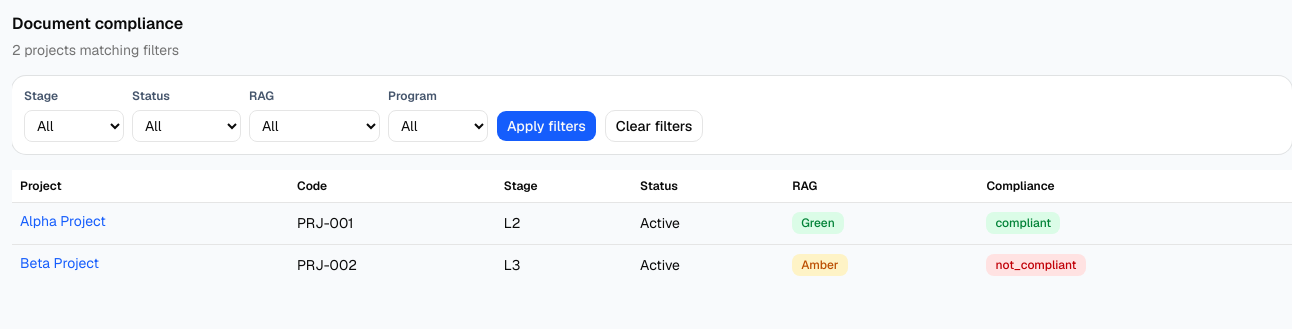
Test: DocumentCompliancePage › shows filter error toast on 400 apply
Expected: the button "Apply filters" is shown, x1=496 y1=110 x2=597 y2=142
Select "L2" in the dropdown named "Stage" at {"x": 74, "y": 126}, box x1=24 y1=110 x2=124 y2=142
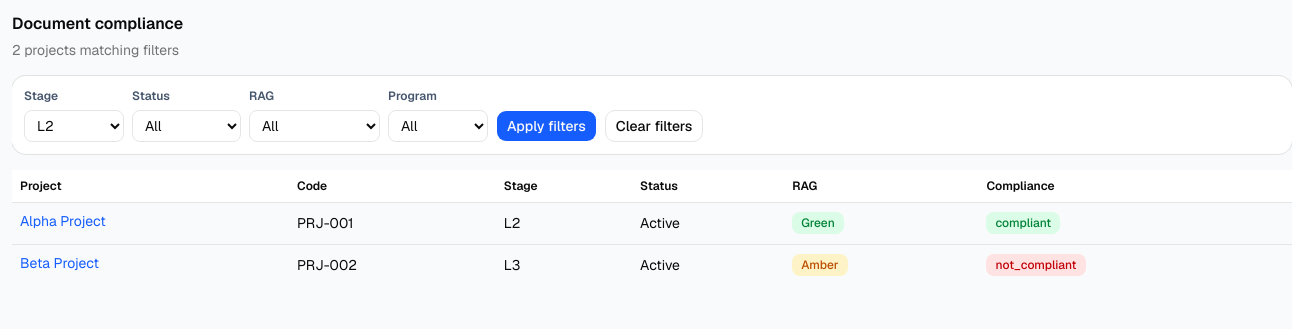
Click the button "Apply filters" at {"x": 546, "y": 126}, box x1=496 y1=110 x2=597 y2=142
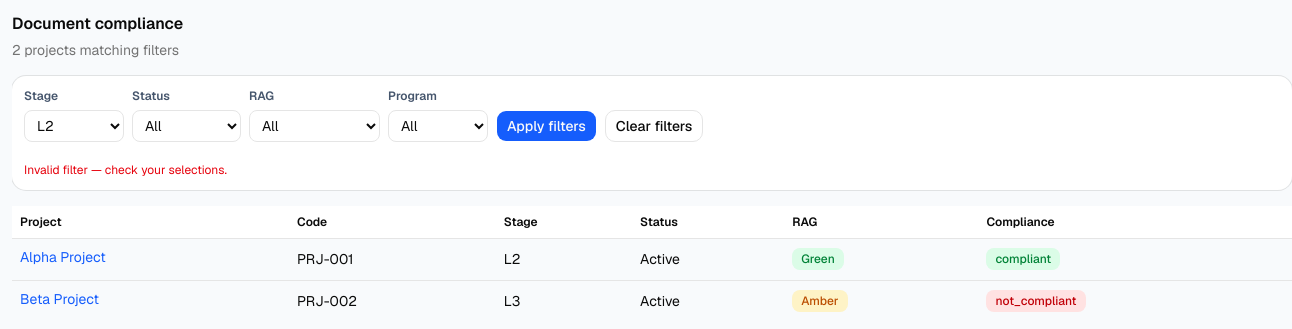
Expected: the link "Alpha Project" is shown, x1=20 y1=246 x2=106 y2=266
Expected: the text with test id "compliance-filter-error" reads "Invalid filter — check your selections.", x1=24 y1=162 x2=227 y2=178
